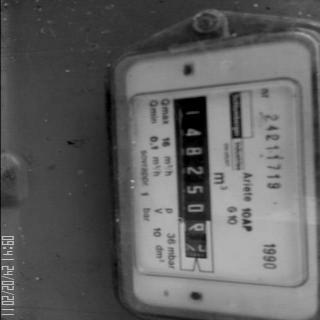1: (186, 203, 206, 216)
2: (181, 107, 203, 118)
3: (184, 165, 207, 177)
5: (183, 127, 204, 139)
6: (183, 184, 206, 196)
9: (183, 146, 205, 158)
:: (185, 222, 206, 234)
